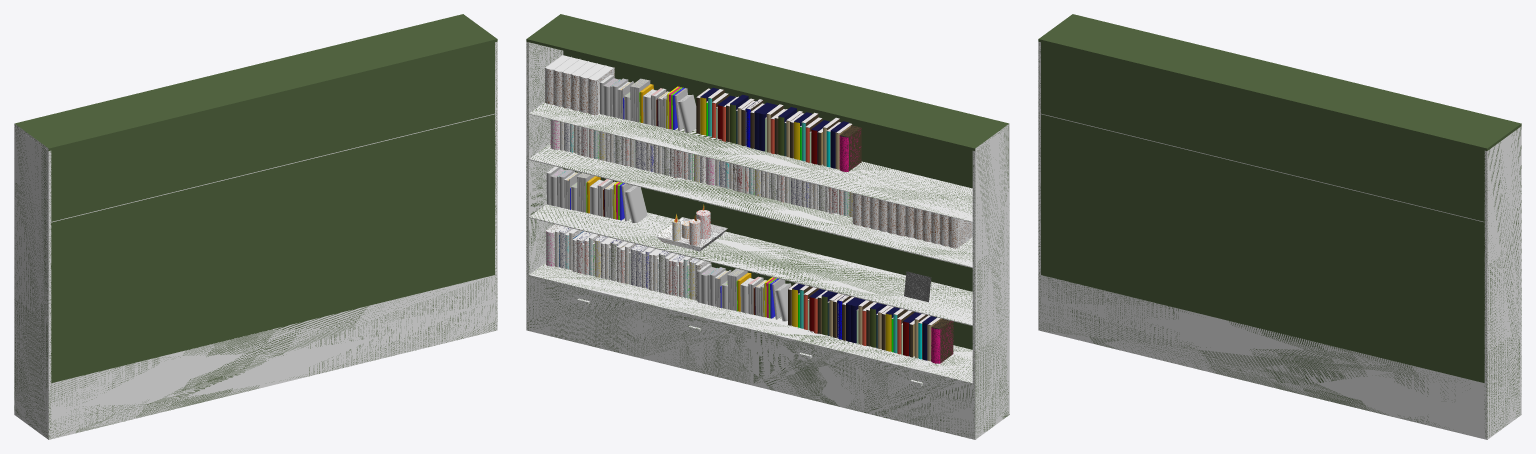
3 views of the same model, side by side, from view 1: azimuth 30°, elevation 25°; view 2: azimuth 150°, elevation 25°; view 3: azimuth 330°, elevation 25° (orthographic).
Parts seen in each view (by area): view 1: mesh451_mesh451-geometry; view 2: mesh451_mesh451-geometry, mesh176_mesh176-geometry, mesh291_mesh291-geometry, mesh280_mesh280-geometry, mesh5_mesh5-geometry, mesh183_mesh183-geometry, mesh245_mesh245-geometry, mesh276_mesh276-geometry, mesh2_mesh2-geometry, mesh277_mesh277-geometry, mesh1_mesh1-geometry, mesh281_mesh281-geometry (+22 smaller); view 3: mesh451_mesh451-geometry.
Boxes of the visible parts, bbox=[...] form: mesh451_mesh451-geometry: bbox=[14, 14, 497, 439]; mesh451_mesh451-geometry: bbox=[526, 14, 1009, 439]; mesh176_mesh176-geometry: bbox=[545, 54, 972, 248]; mesh291_mesh291-geometry: bbox=[839, 125, 953, 363]; mesh280_mesh280-geometry: bbox=[754, 102, 873, 344]; mesh5_mesh5-geometry: bbox=[625, 139, 801, 286]; mesh183_mesh183-geometry: bbox=[656, 210, 727, 251]; mesh245_mesh245-geometry: bbox=[624, 94, 791, 321]; mesh276_mesh276-geometry: bbox=[794, 112, 907, 353]; mesh2_mesh2-geometry: bbox=[576, 127, 748, 274]; mesh277_mesh277-geometry: bbox=[805, 117, 921, 356]; mesh1_mesh1-geometry: bbox=[589, 130, 760, 277]; mesh281_mesh281-geometry: bbox=[778, 107, 890, 348]; mesh451_mesh451-geometry: bbox=[1038, 14, 1521, 439].
Size of the model in its own units: 0.844 by 0.5236 by 0.1163.
